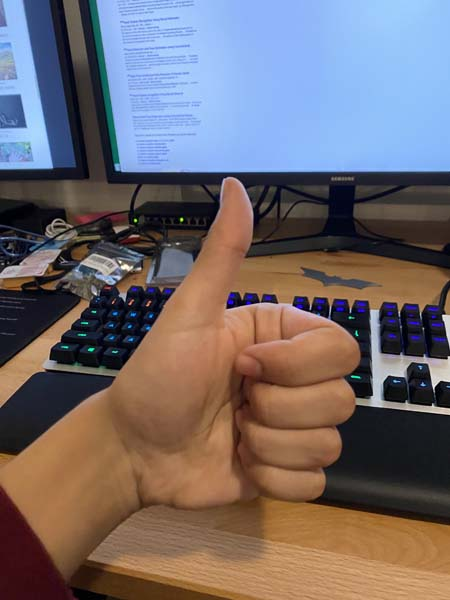Thumbs Up: (98, 167, 388, 538)
